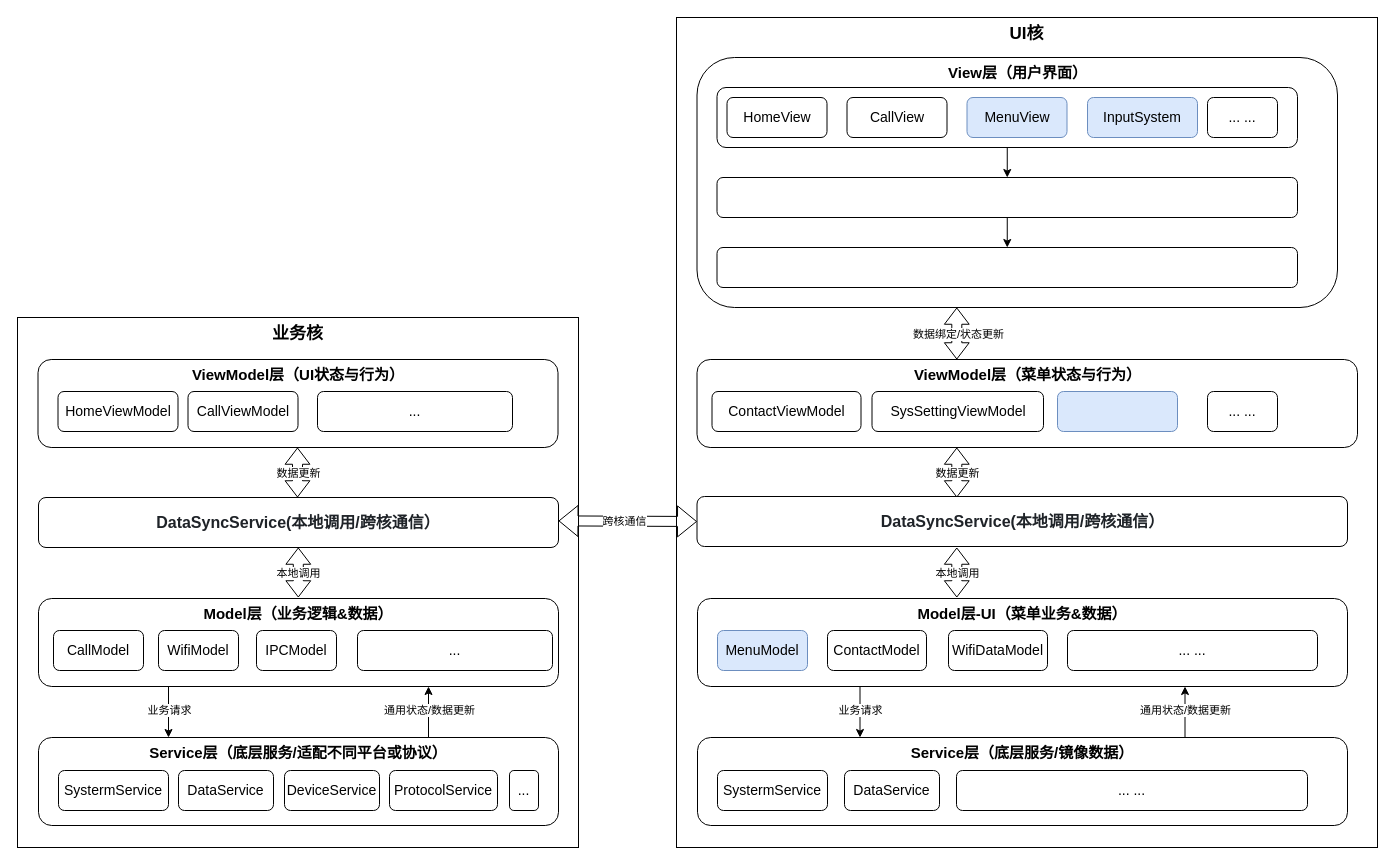
Some shapes in this 1395 by 865 pixel diagram are drawn without their labels. Each missing label, with the centre of its shape:
"LVGL/QT/AWTK/... ...." belongs at (x=1007, y=267).
"MenuViewModel" belongs at (x=1117, y=411).
"View-Adapter 适配不用UI框架" belongs at (x=1007, y=197).
